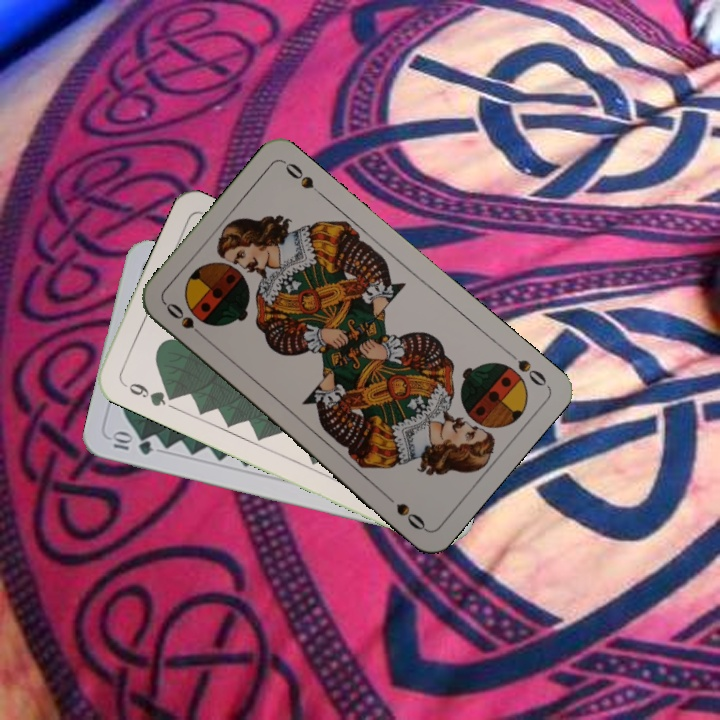G10: (107, 429, 155, 458)
G9: (118, 378, 177, 409)
SO: (161, 299, 209, 343), (501, 346, 549, 390)
